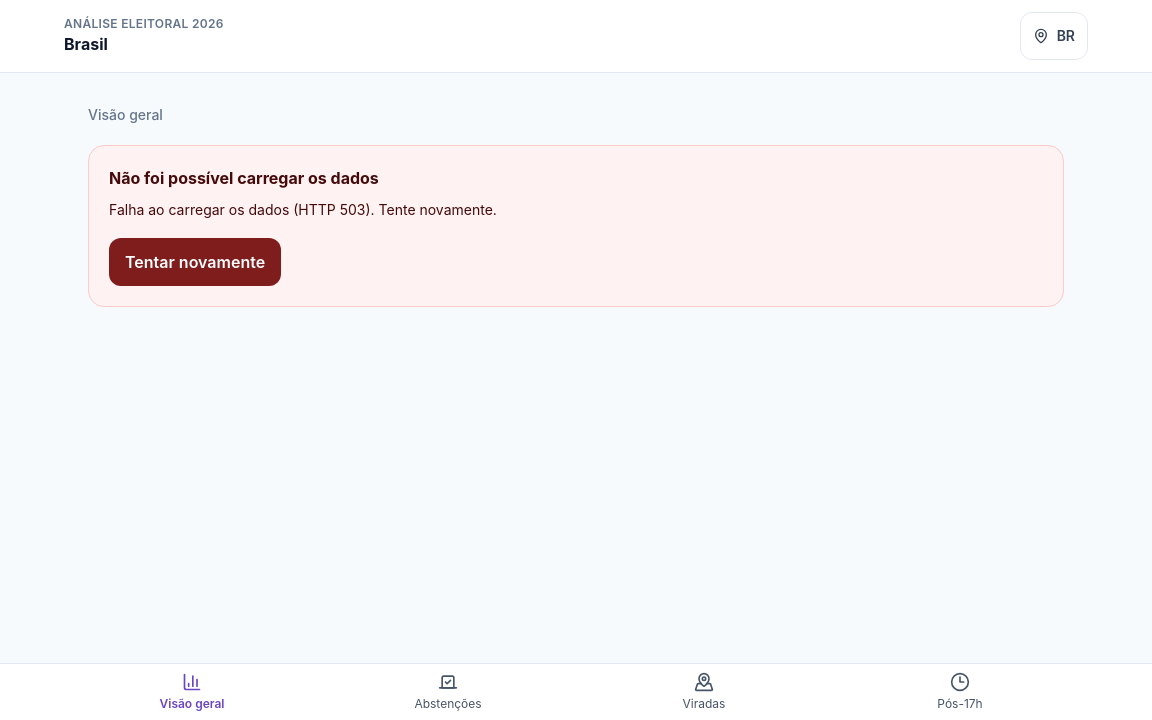
election dashboard › offers a retry when the national summary request fails
The image size is (1152, 720).
Expected: the heading "Não foi possível carregar os dados" is shown, [109, 168, 379, 188]
Click the button "Tentar novamente": (195, 262) [109, 238, 281, 286]
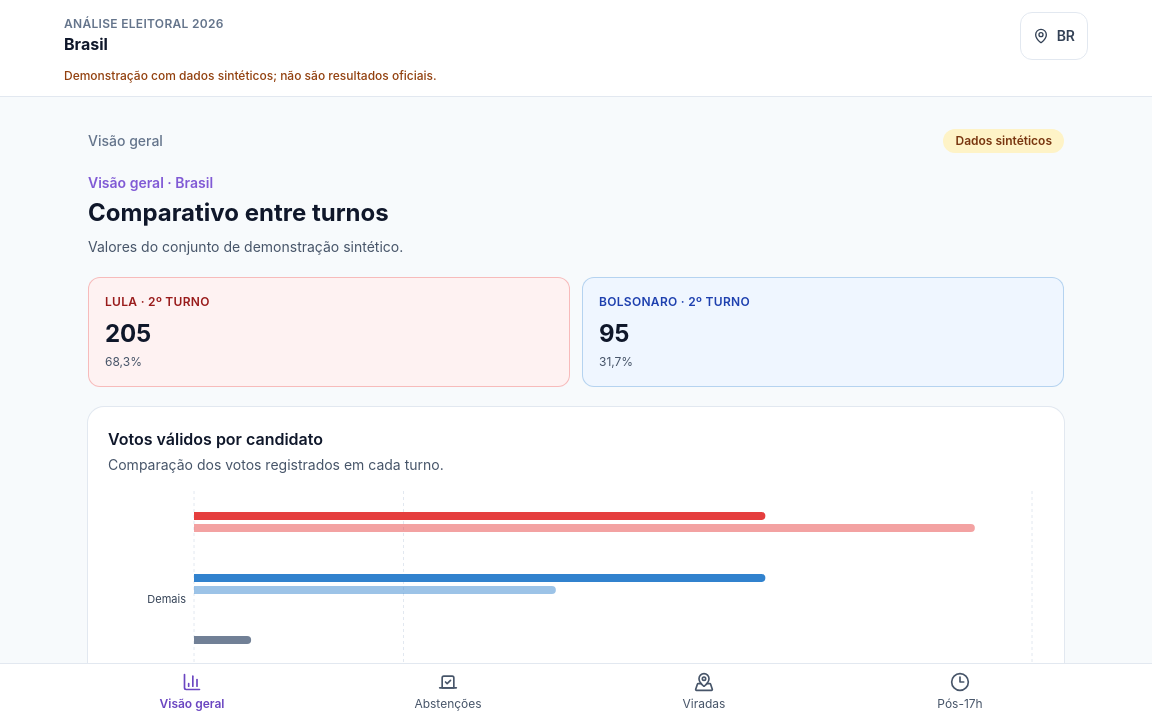
Now the heading "Comparativo entre turnos" is shown, box [88, 198, 389, 227]
